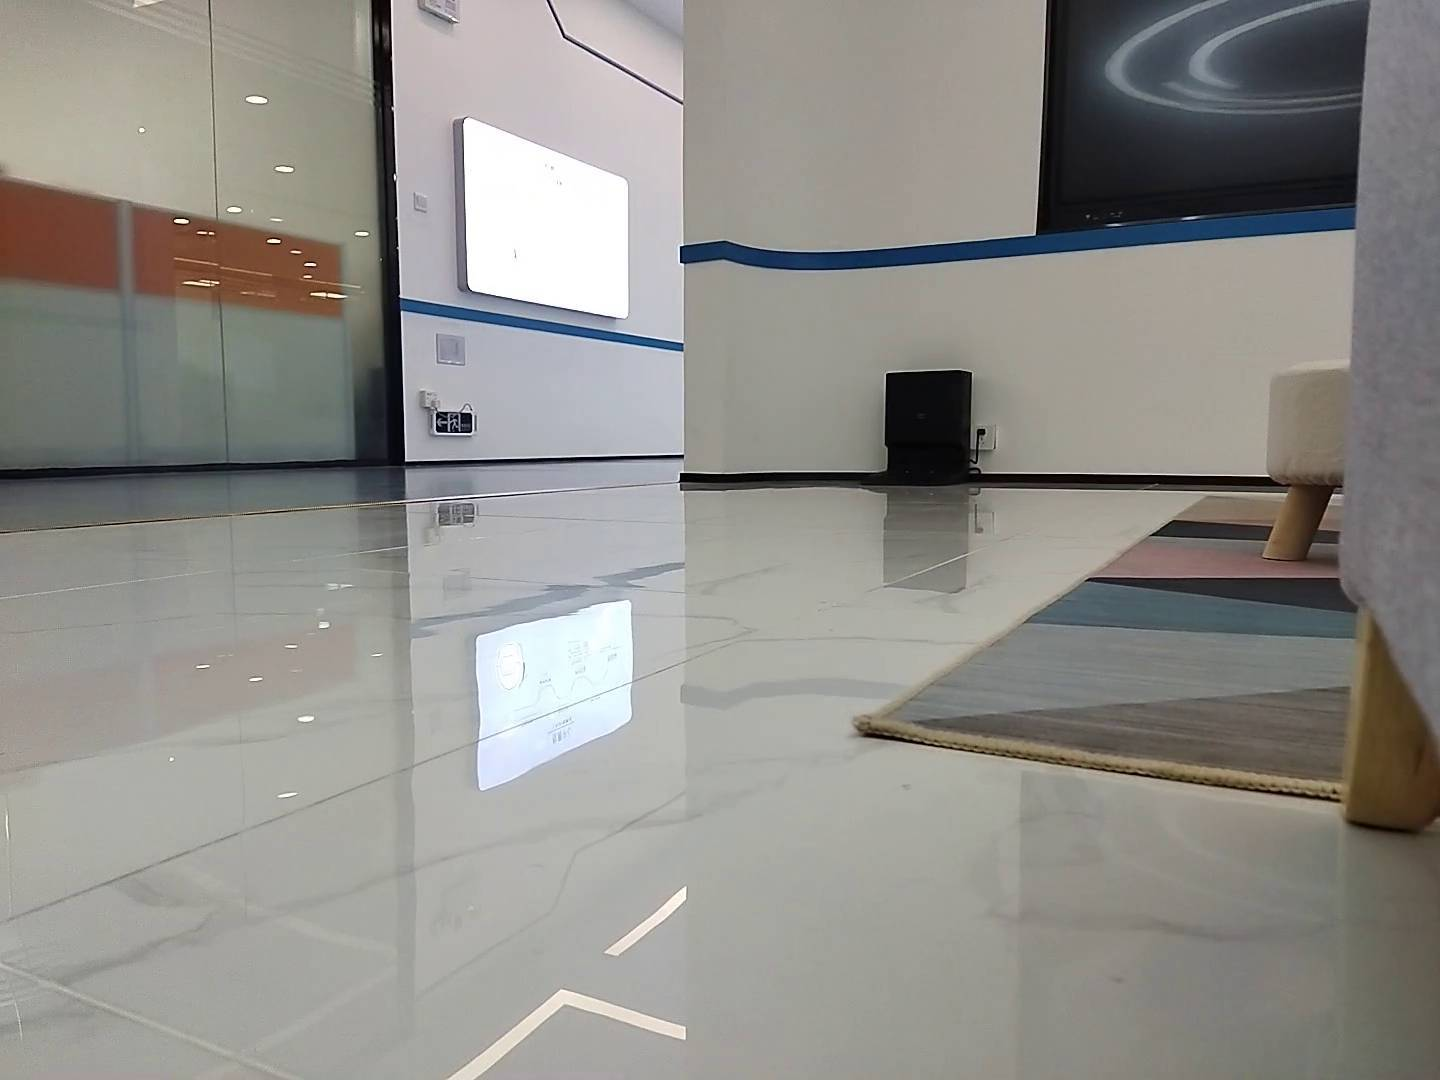dust collecting barrel: (859, 370, 976, 489)
